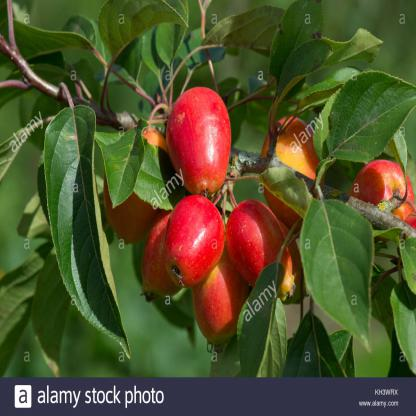apple leaf: (38, 103, 141, 369), (287, 185, 388, 365), (320, 44, 416, 170), (269, 0, 330, 137), (233, 252, 292, 376), (107, 118, 168, 218)
